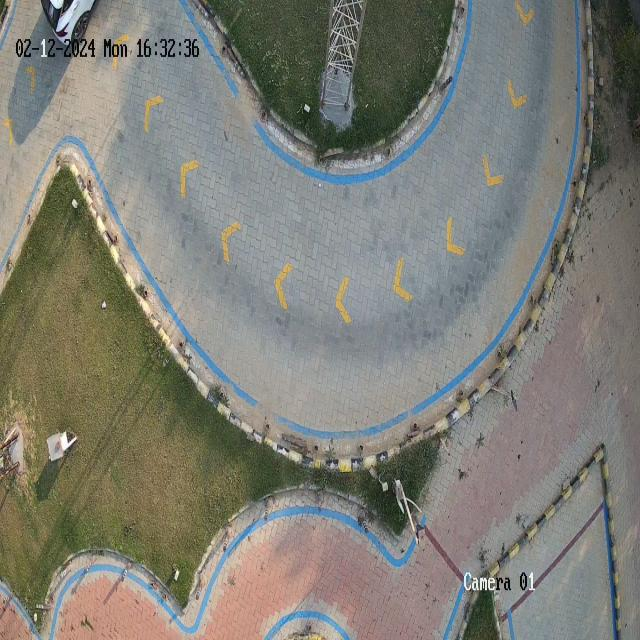car: (41, 0, 97, 46)
